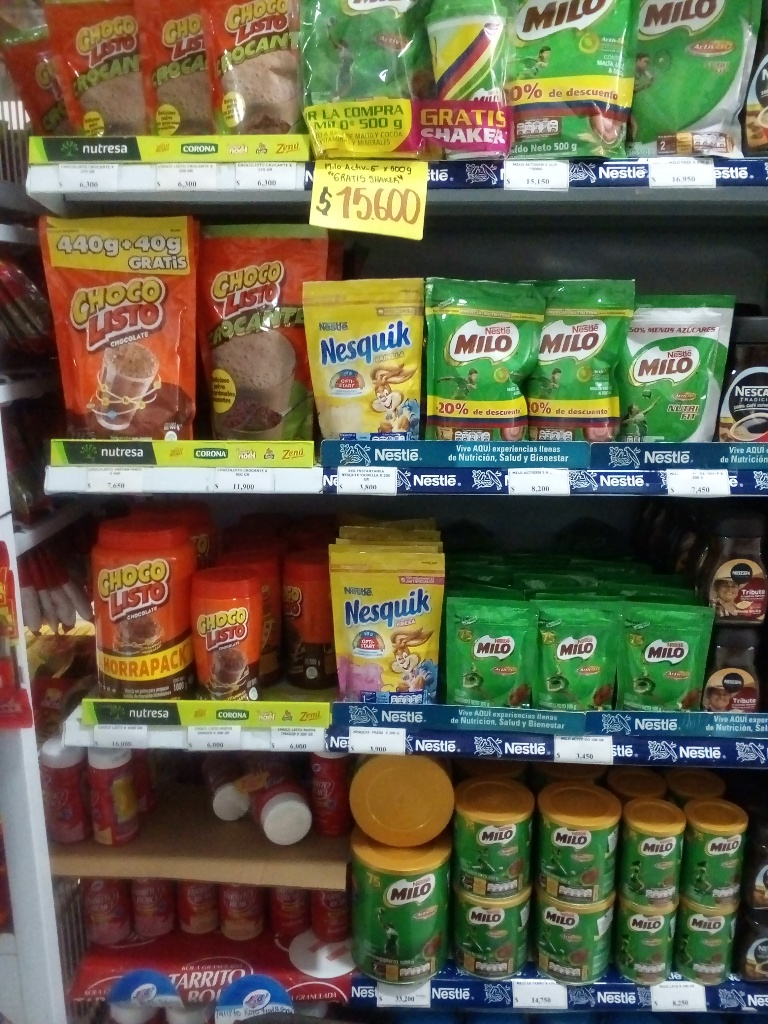COL0170102DYP25000: (211, 2, 313, 143)
COL0170102DYP50000: (176, 215, 328, 446)
COL0170103TRR00100: (87, 518, 200, 696)
COL0170103TRR30000: (283, 555, 356, 691)
COL0170203DYP10000: (544, 603, 621, 708)
COL0170203DYP25000: (432, 272, 539, 454)
COL0170203DYP50000: (300, 0, 431, 149)
COL0170203LAT20000: (625, 807, 688, 903)
COL0170203LAT40000: (460, 790, 531, 900)
COL0170205DYP20000: (623, 301, 729, 459)
COL0170205DYP50000: (636, 2, 764, 166)
COL0170305DYP20000: (337, 548, 445, 706)
COL0170306DYP20000: (301, 284, 423, 448)
